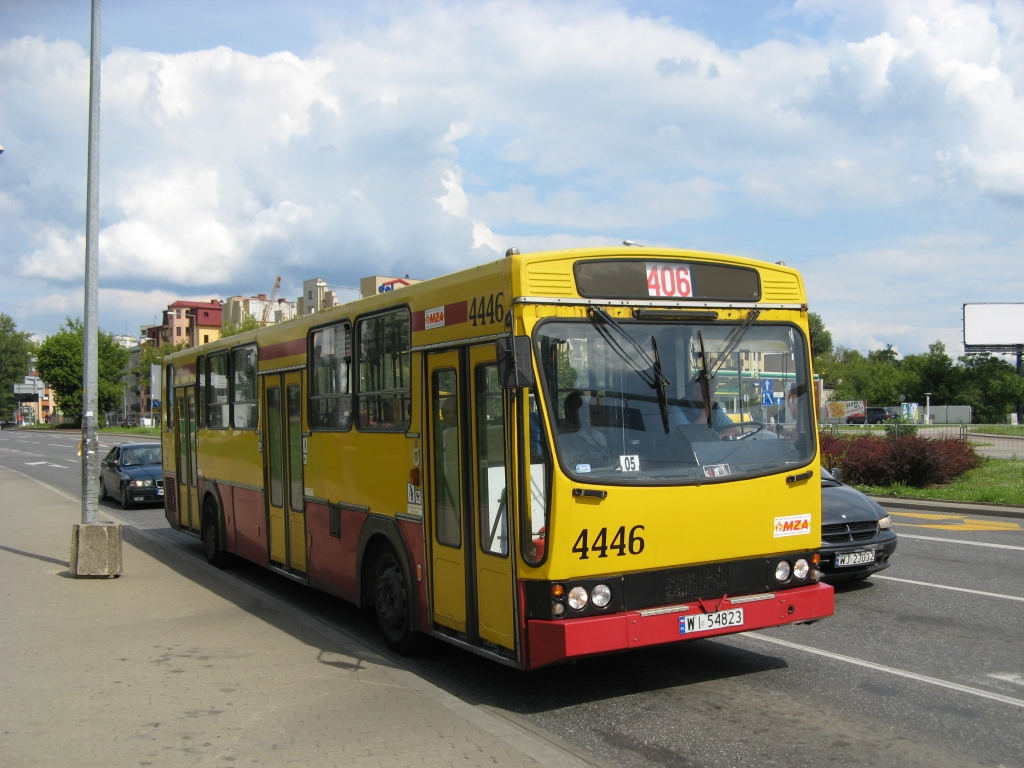bus: (147, 246, 846, 655)
car: (92, 427, 173, 514)
